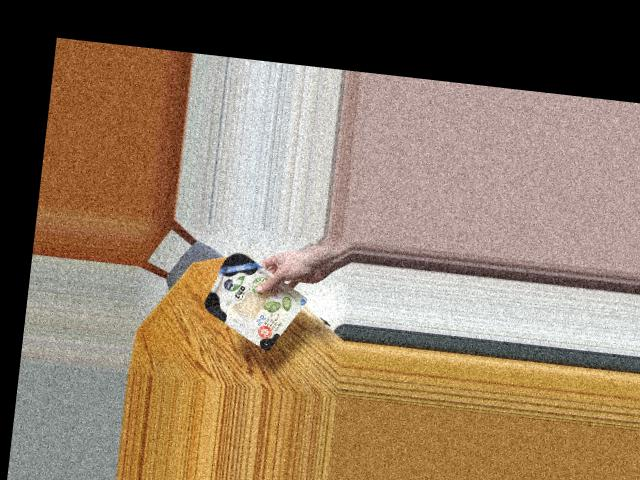cheese: (202, 251, 299, 347)
